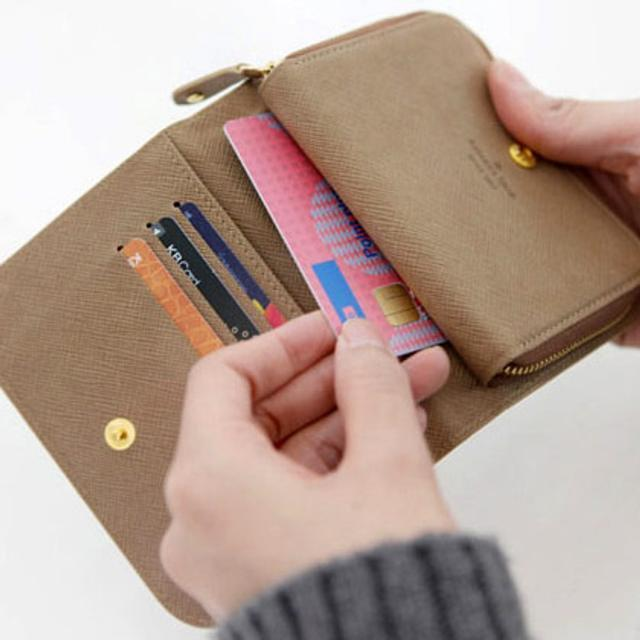wallet: (268, 8, 640, 394)
